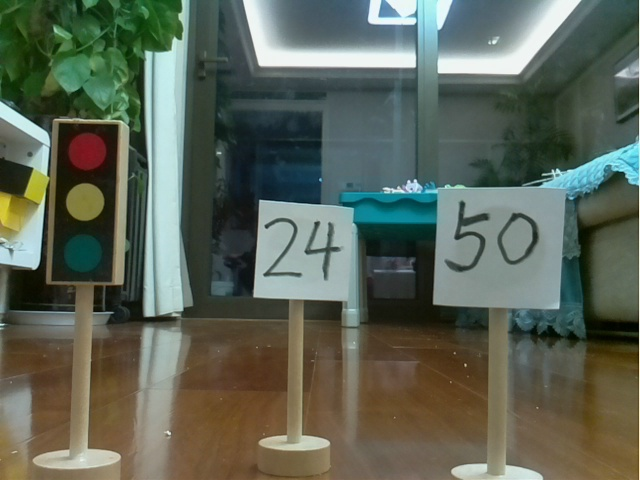Red Traffic Light: (28, 113, 134, 480)
Speed Limit 24: (248, 192, 358, 474)
Speed Limit 50: (422, 180, 571, 480)
